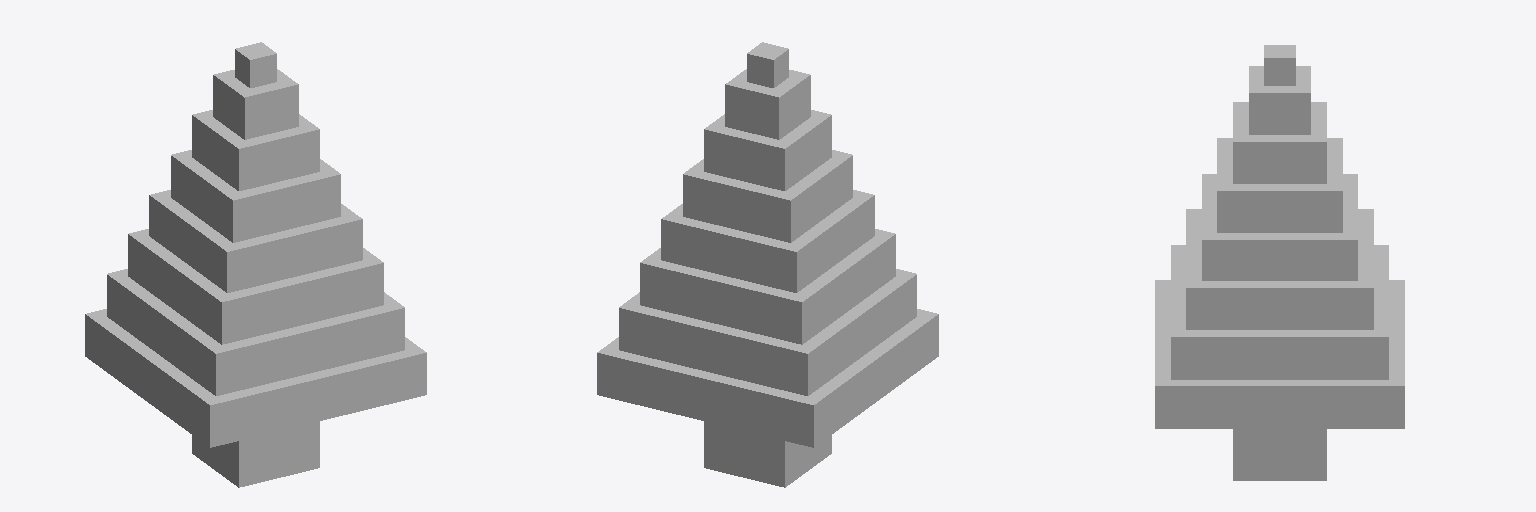
Rendered from c_tree.obj.
The picture shows the model from 3 angles: view 1: azimuth 30°, elevation 25°; view 2: azimuth 150°, elevation 25°; view 3: azimuth 270°, elevation 25°; orthographic projection.
Visible parts, largest first — view 1: nodebox15; view 2: nodebox15; view 3: nodebox15.
Boxes of the visible parts, x1=… form: nodebox15: x1=85, y1=42, x2=426, y2=487; nodebox15: x1=597, y1=42, x2=938, y2=487; nodebox15: x1=1155, y1=45, x2=1404, y2=480.
Size of the model in its own units: 1 by 1.81 by 1.